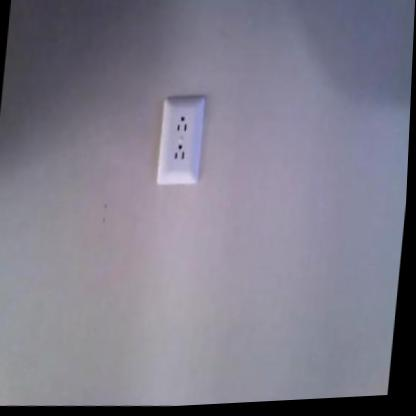OUTLET: (153, 94, 206, 189)
